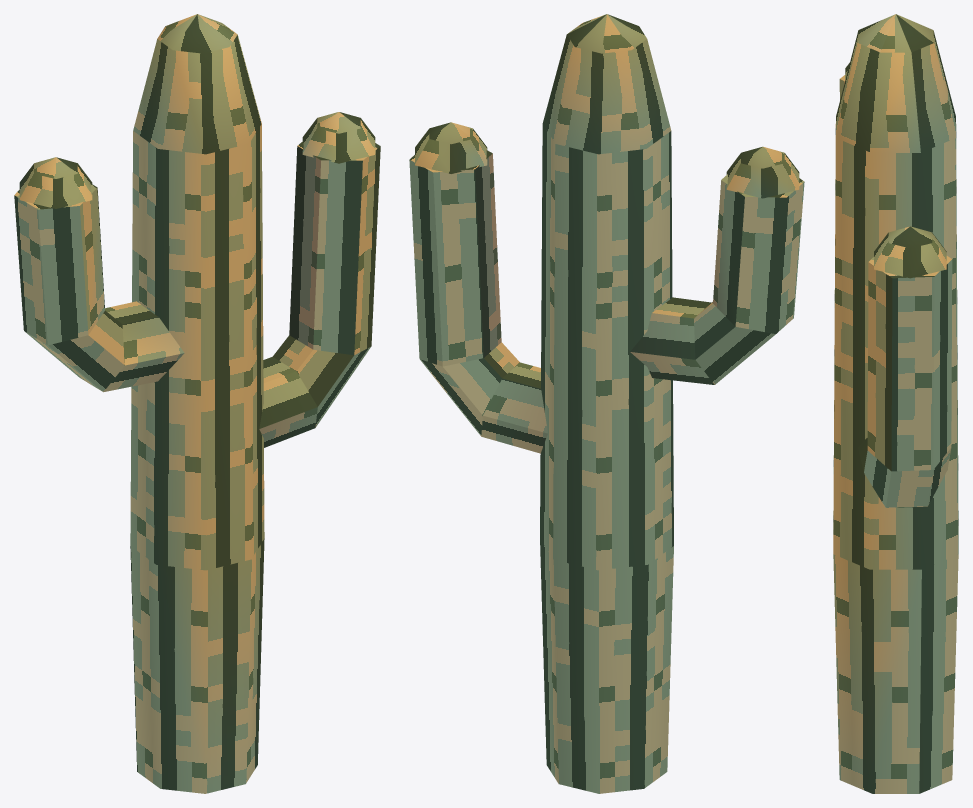
Rendered from wprop.cactus__tall.glb.
3 renders of one model, left to right at view 1: azimuth 30°, elevation 25°; view 2: azimuth 150°, elevation 25°; view 3: azimuth 270°, elevation 25°, orthographic.
Visible parts, largest first — view 1: kit_trunk, kit_arms, kit_tips; view 2: kit_trunk, kit_arms, kit_tips; view 3: kit_trunk, kit_arms, kit_tips.
Part boxes in pixels (left/top/right/bottom): kit_trunk: left=130, top=14, right=264, bottom=793; kit_arms: left=14, top=141, right=380, bottom=447; kit_tips: left=19, top=112, right=375, bottom=208; kit_trunk: left=540, top=14, right=673, bottom=793; kit_arms: left=409, top=150, right=804, bottom=453; kit_tips: left=415, top=122, right=799, bottom=198; kit_trunk: left=833, top=14, right=958, bottom=793; kit_arms: left=839, top=75, right=952, bottom=507; kit_tips: left=845, top=62, right=946, bottom=278.
Size of the model in its own units: 2.36 by 4.6 by 0.6906.
Materials: 1 (1 with a texture image).
